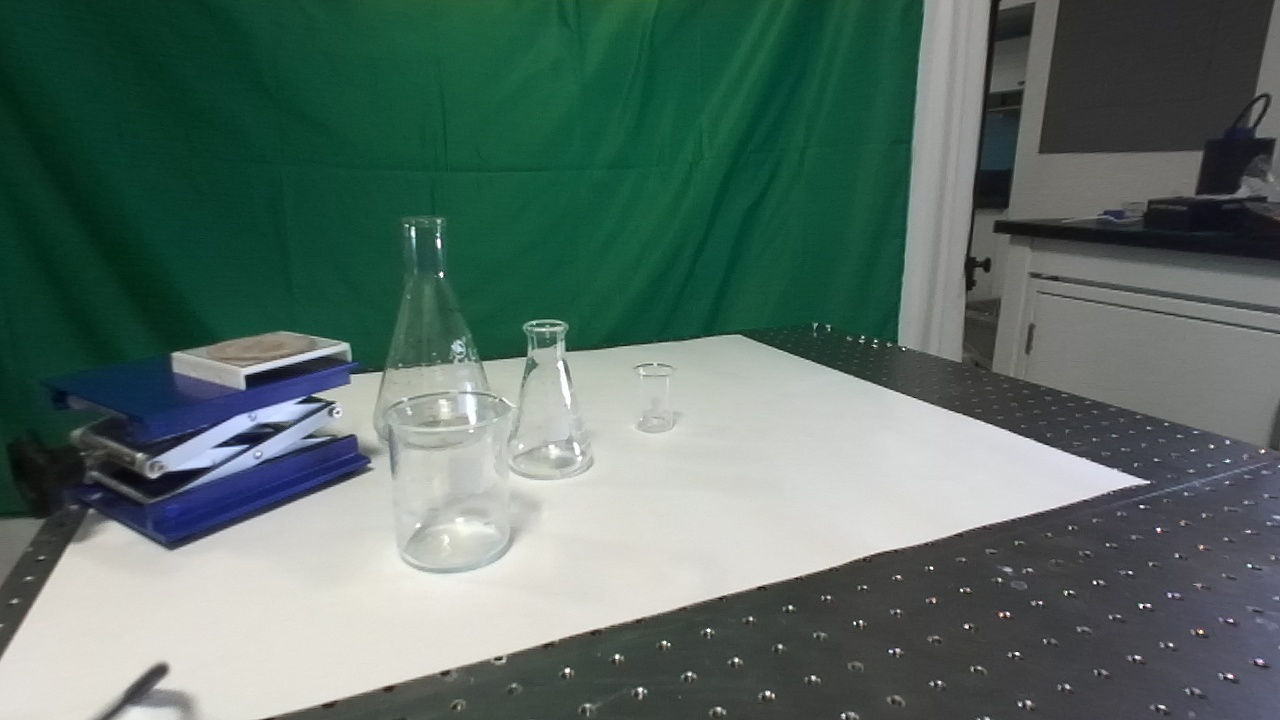glass: (370, 209, 503, 456), (380, 385, 522, 581), (499, 316, 598, 484), (629, 358, 681, 439)
plate: (168, 326, 359, 388)
